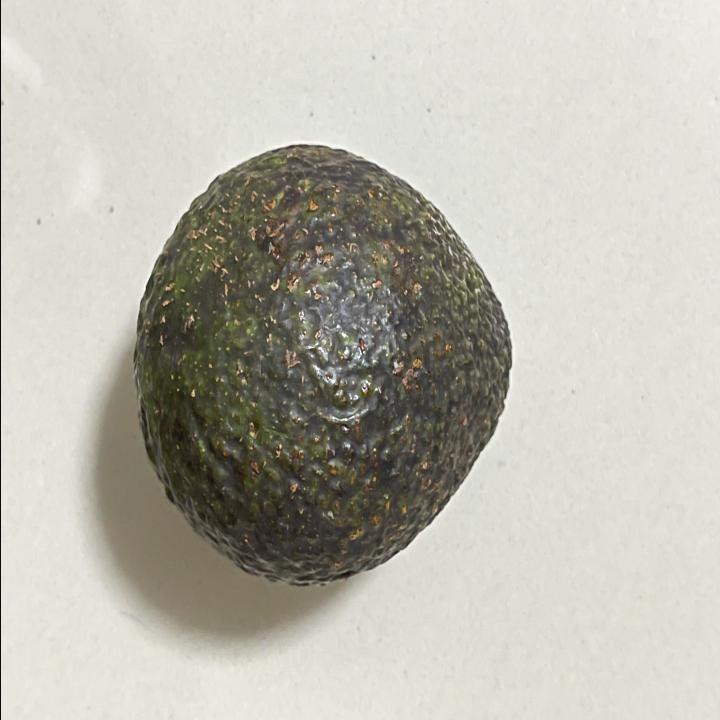Level1: (122, 126, 528, 606)
